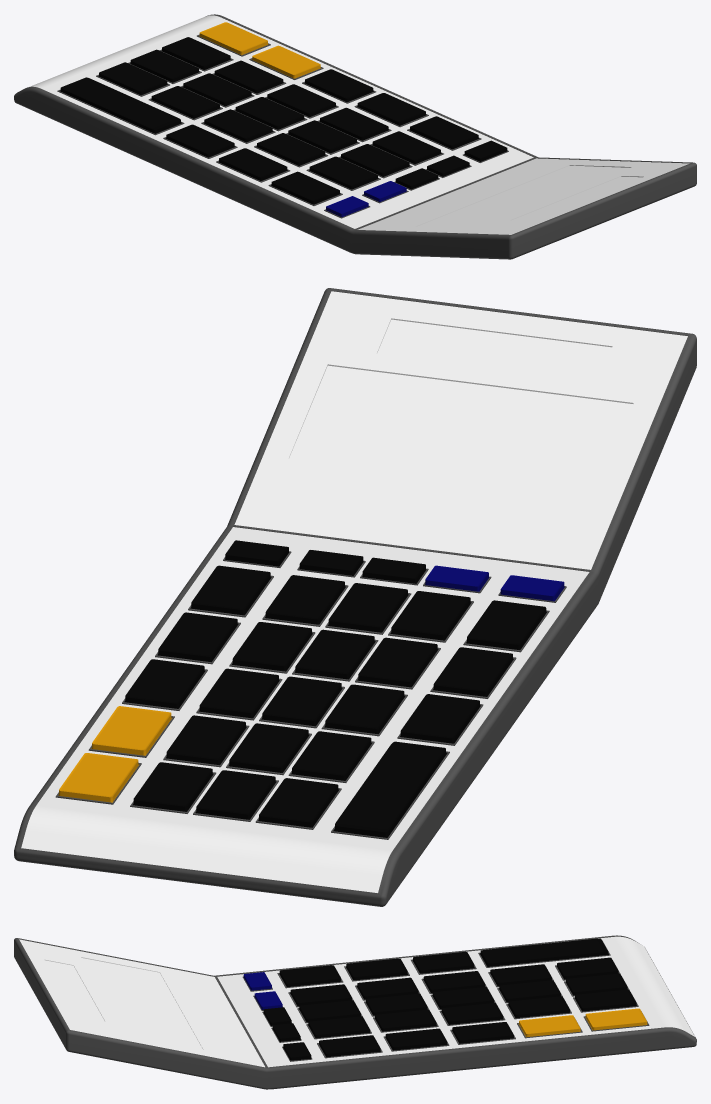
Rendered from computer_keyboard_f9945610.glb.
3 views of the same model, one above another, from view 1: azimuth 30°, elevation 25°; view 2: azimuth 150°, elevation 25°; view 3: azimuth 270°, elevation 25° (orthographic). The views are drawn at different scales.
Visible parts, largest first — view 1: calculator; view 2: calculator; view 3: calculator.
Boxes of the visible parts, left/top/right/bottom form: calculator: left=14, top=14, right=696, bottom=259; calculator: left=14, top=288, right=696, bottom=906; calculator: left=14, top=935, right=696, bottom=1089.
Bounding box in the file's own units: 5.39 × 1.26 × 9.87.
